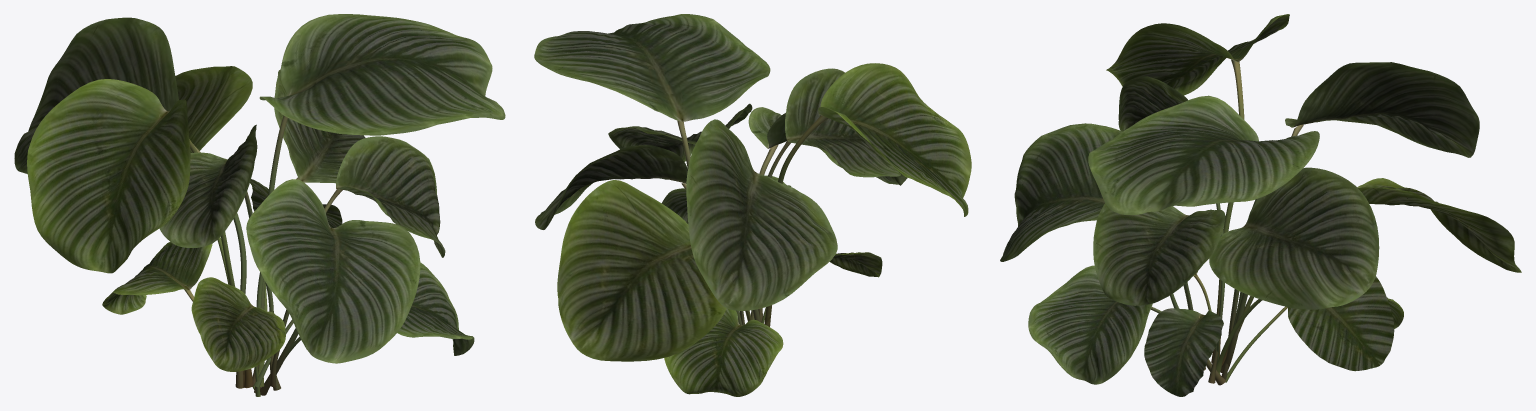
Rendered from plant2.glb.
The picture shows the model from 3 angles, left to right: view 1: azimuth 30°, elevation 25°; view 2: azimuth 150°, elevation 25°; view 3: azimuth 270°, elevation 25°; orthographic projection. The views are drawn at different scales.
Visible parts, largest first — view 1: calatheaLeaves; view 2: calatheaLeaves; view 3: calatheaLeaves.
Part boxes in pixels (x1,y1,x2,y2): calatheaLeaves: [14, 14, 505, 396]; calatheaLeaves: [534, 14, 971, 396]; calatheaLeaves: [1000, 14, 1521, 396].
Size of the model in its own units: 0.5222 by 0.3698 by 0.5573.
1 material, 1 textured.
